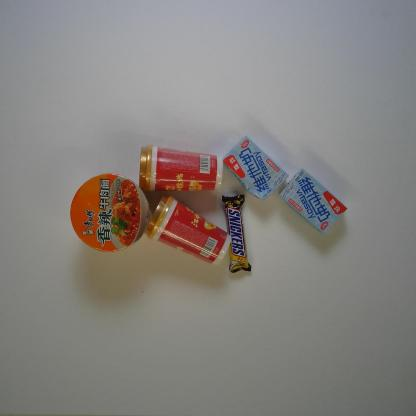Chocolate: (219, 194, 253, 273)
Instant Drink: (142, 193, 233, 266), (138, 144, 224, 194)
Instant Noodles: (68, 173, 151, 254)
Milk: (278, 168, 348, 236), (221, 136, 289, 202)
